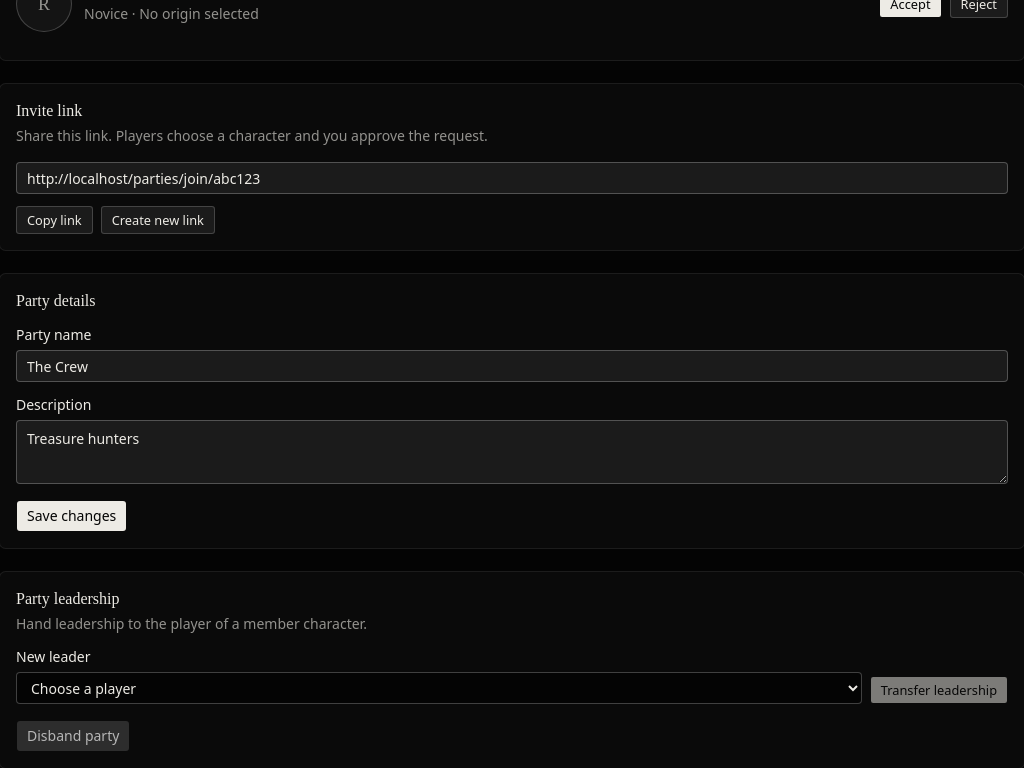
Test case: PartyRoute › lets the leader transfer leadership and disband the party
(page scrolled)
Select "Player of Katarina" in the dropdown labelled "New leader": (439, 688) [16,672,862,704]
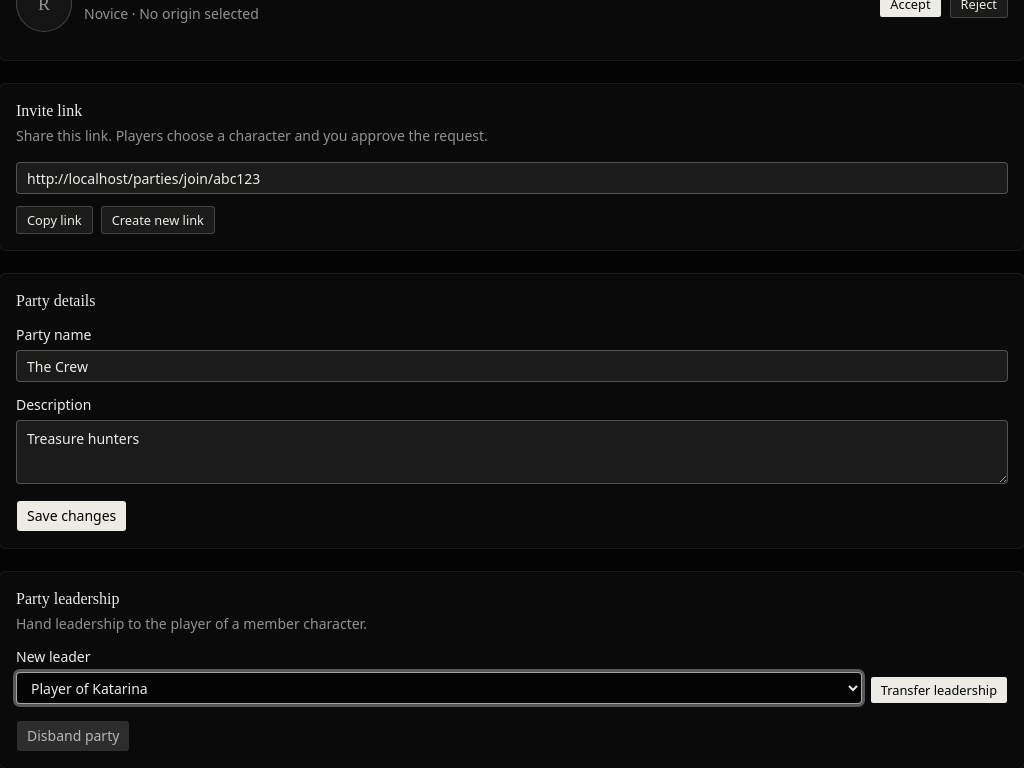
Click the button "Transfer leadership": (939, 690) [870,676,1008,704]
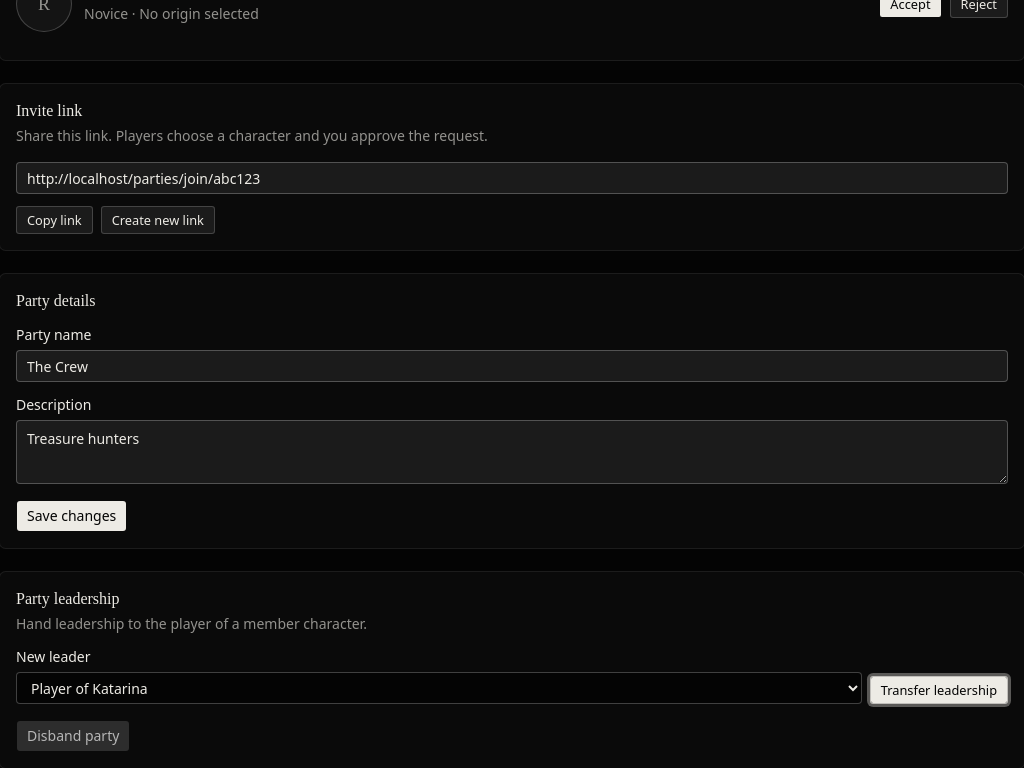
Click the button "Disband party": (73, 736) [16,720,130,752]
(page scrolled)
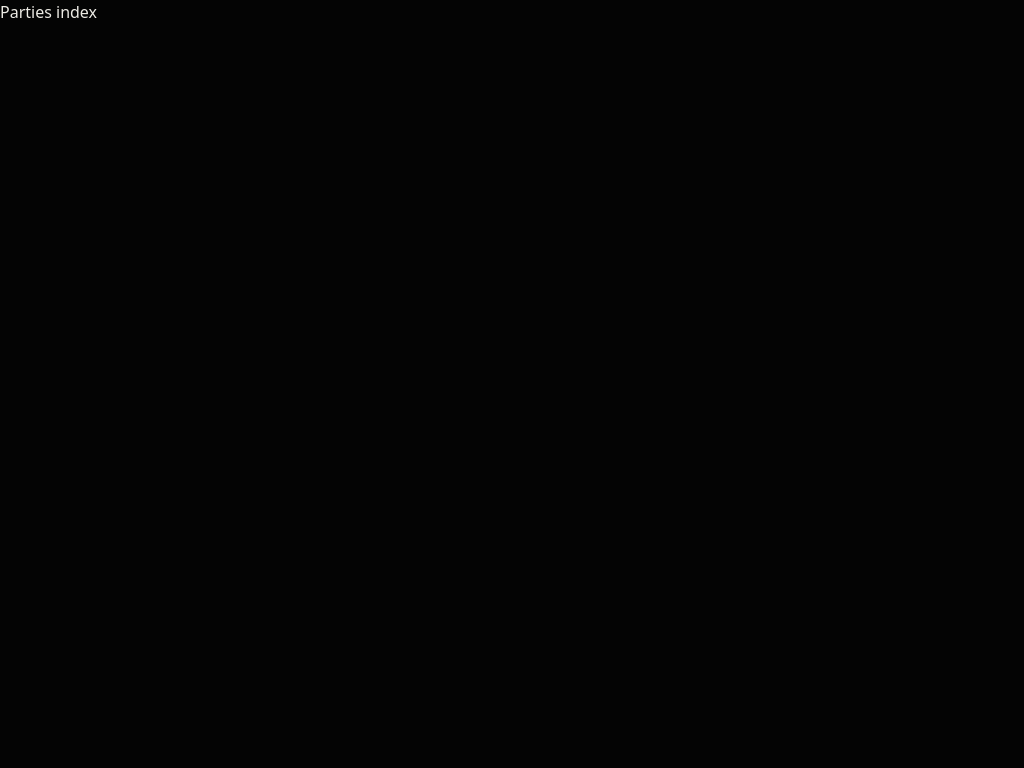
Expected: the text "Parties index" is shown, [0,1,97,23]
